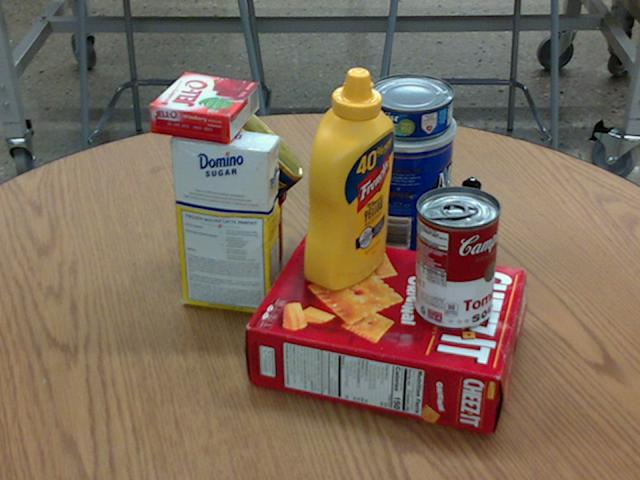cracker_box: (248, 232, 526, 434)
gelatin_box: (149, 72, 259, 142)
large_marker: (453, 177, 480, 289)
master_chef_can: (352, 101, 458, 265)
mug: (193, 168, 286, 275)
mustard_bottle: (303, 66, 393, 290)
potted_meat_can: (173, 102, 304, 231)
sugar_box: (169, 123, 280, 316)
tomato_soup_can: (414, 185, 501, 329)
tuna_fish_can: (368, 74, 455, 138)
